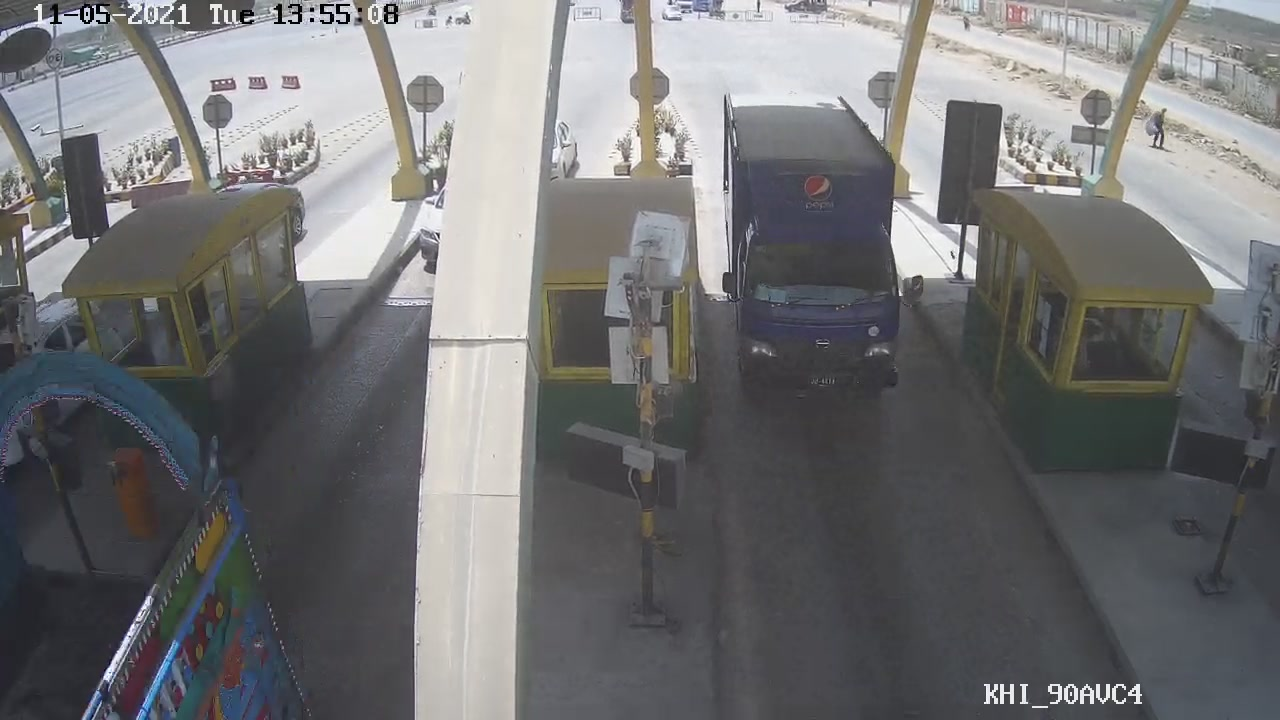F5: (708, 105, 925, 416)
